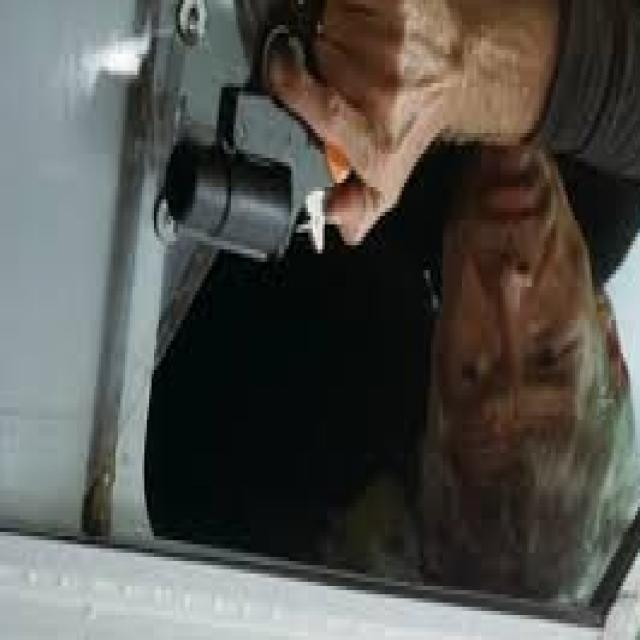gun: (154, 0, 385, 324)
